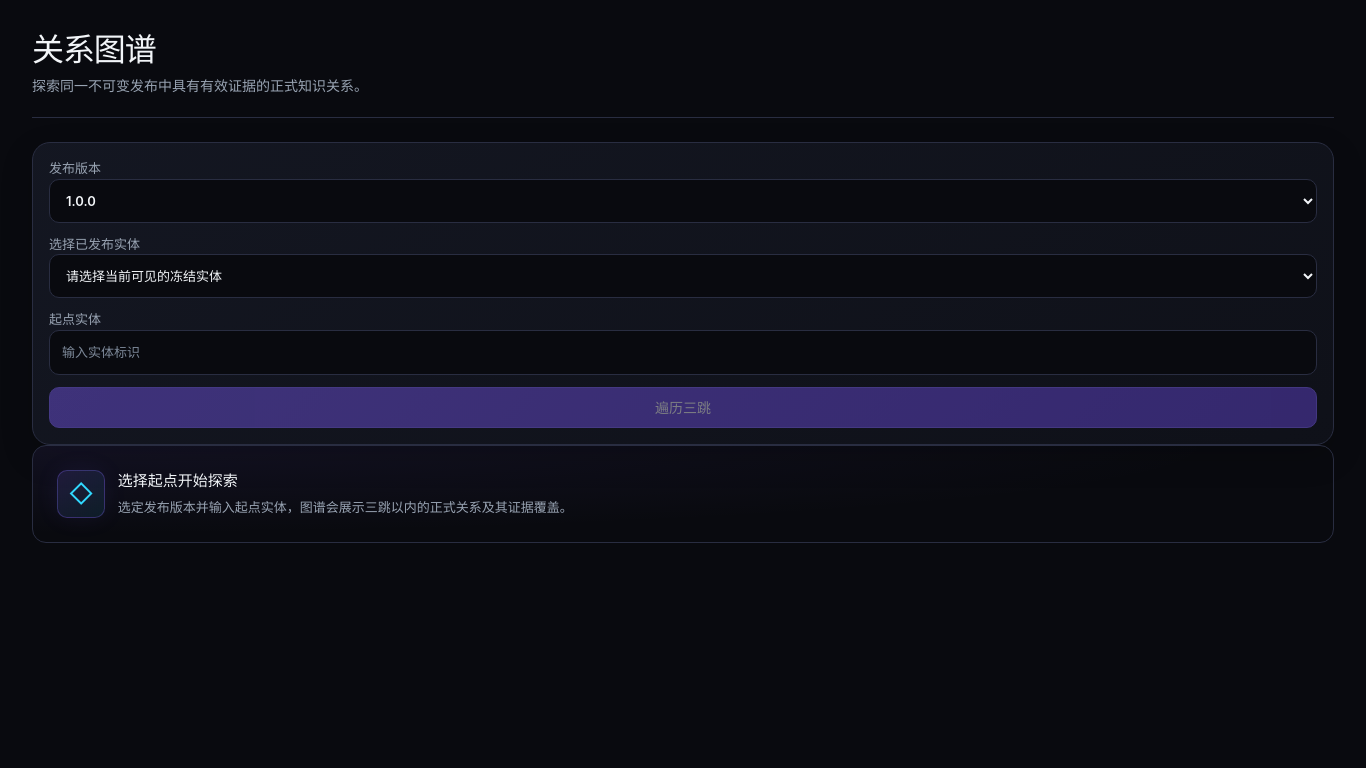
Test: M7 trusted consumption pages › uses a Release-scoped graph route and renders evidence counts
Type "018f0000-0000-7000-8000-000000000008" into the field with placeholder "输入实体标识".
click(683, 353); type("018f0000-0000-7000-8000-000000000008")  # box top-left (49, 330), bottom-right (1317, 375)
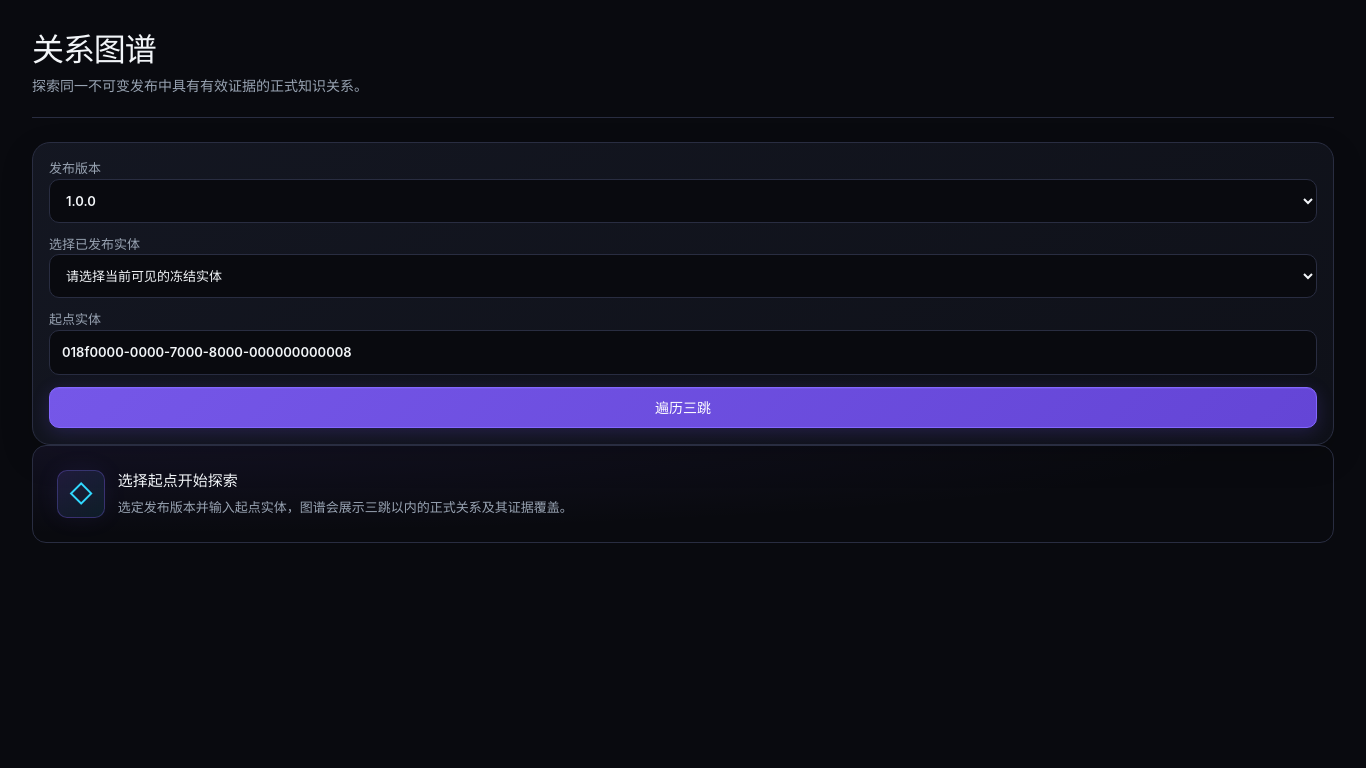
Click the button "遍历三跳".
click(683, 408)  # box top-left (49, 387), bottom-right (1317, 428)
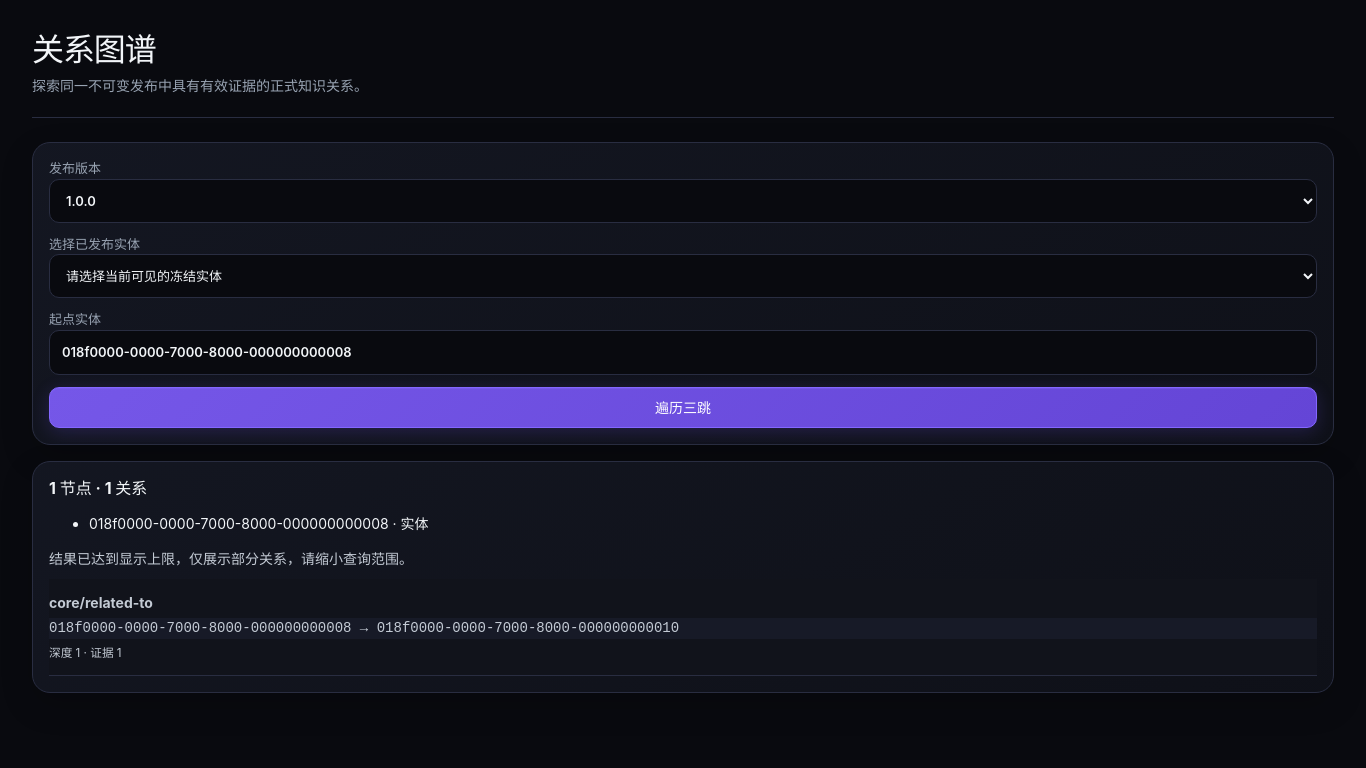
Now the text "core/related-to" is shown, box top-left (49, 594), bottom-right (153, 611)
Now the text "深度 1 · 证据 1" is shown, box top-left (49, 646), bottom-right (122, 660)
Now the message shows "仅展示部分关系", box top-left (49, 550), bottom-right (413, 567)
